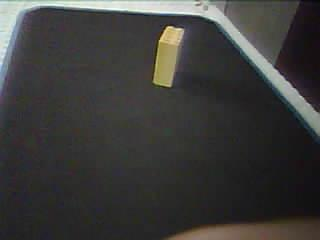lego: (150, 24, 185, 87)
